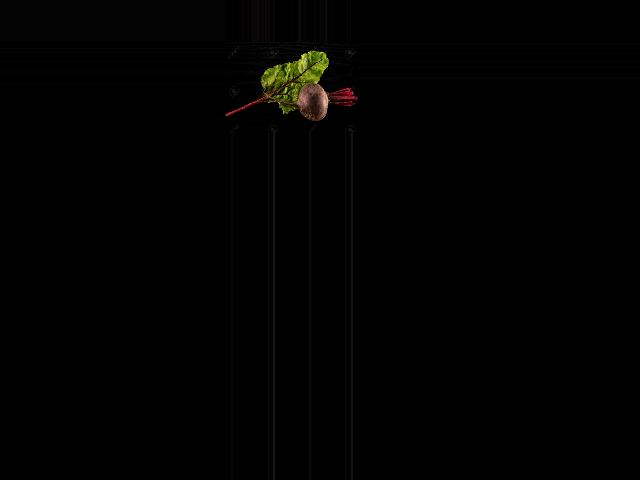beet: (262, 83, 358, 121)
